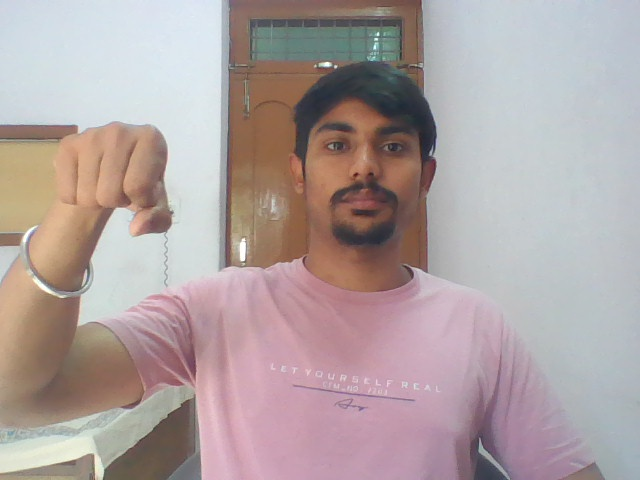Yes: (48, 116, 177, 243)
